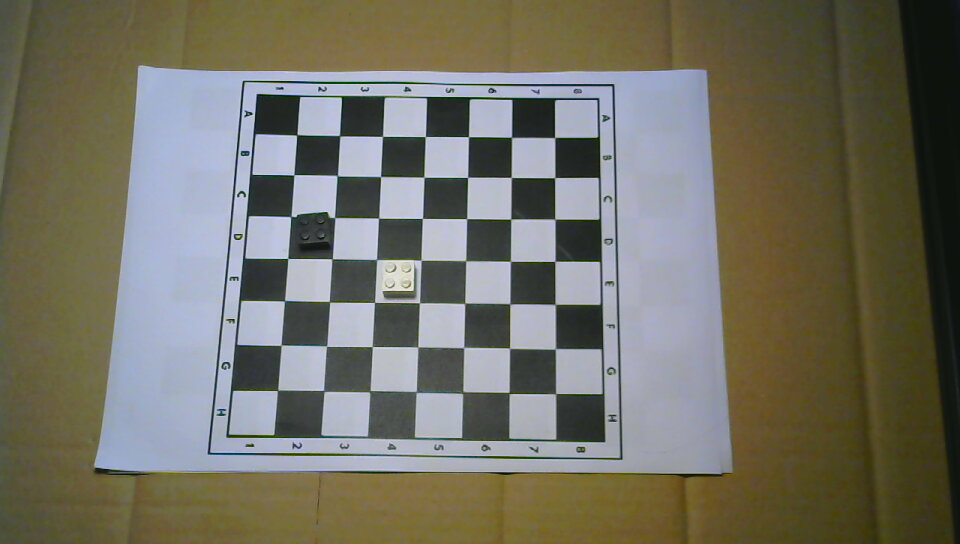bp: (294, 211, 332, 252)
wp: (382, 260, 416, 299)
